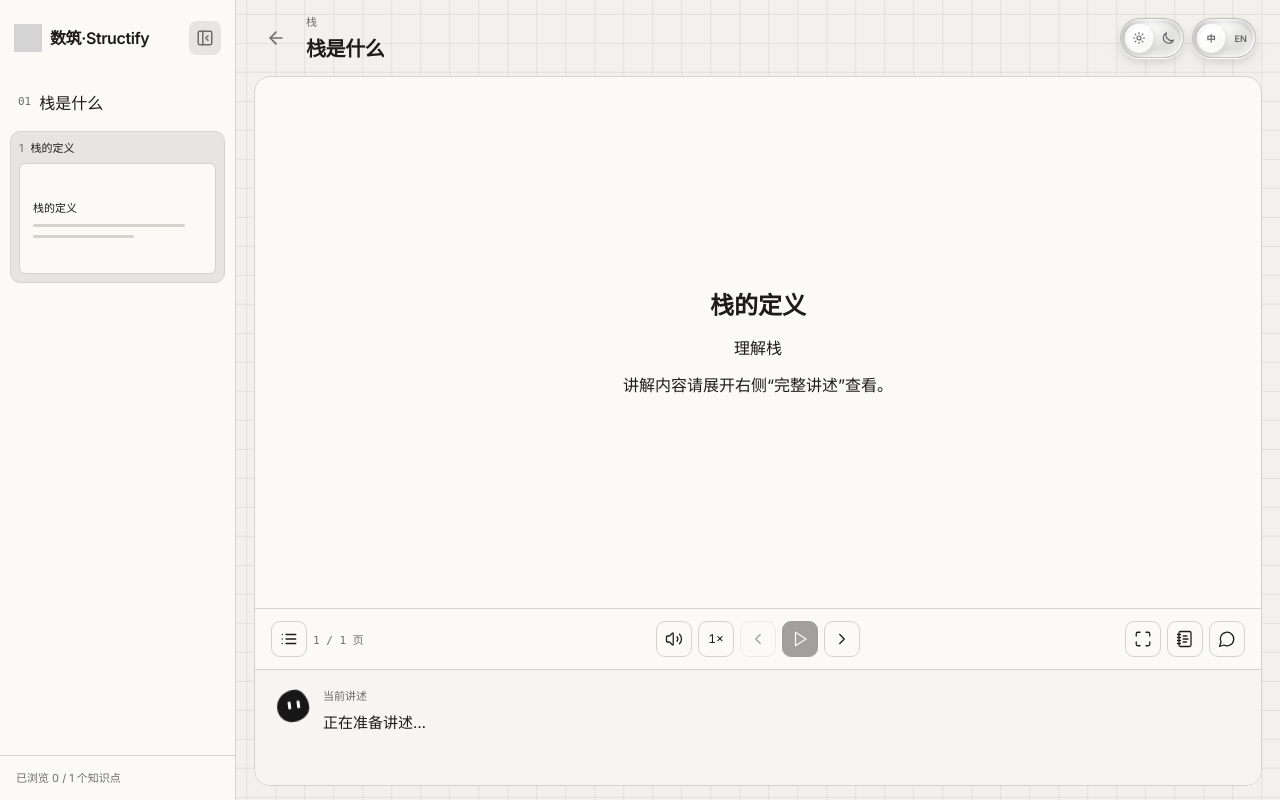
Test: keeps current content while showing a failure at the next fragment
Click the button named "下一页".
click(842, 639)  # box [824, 621, 860, 657]
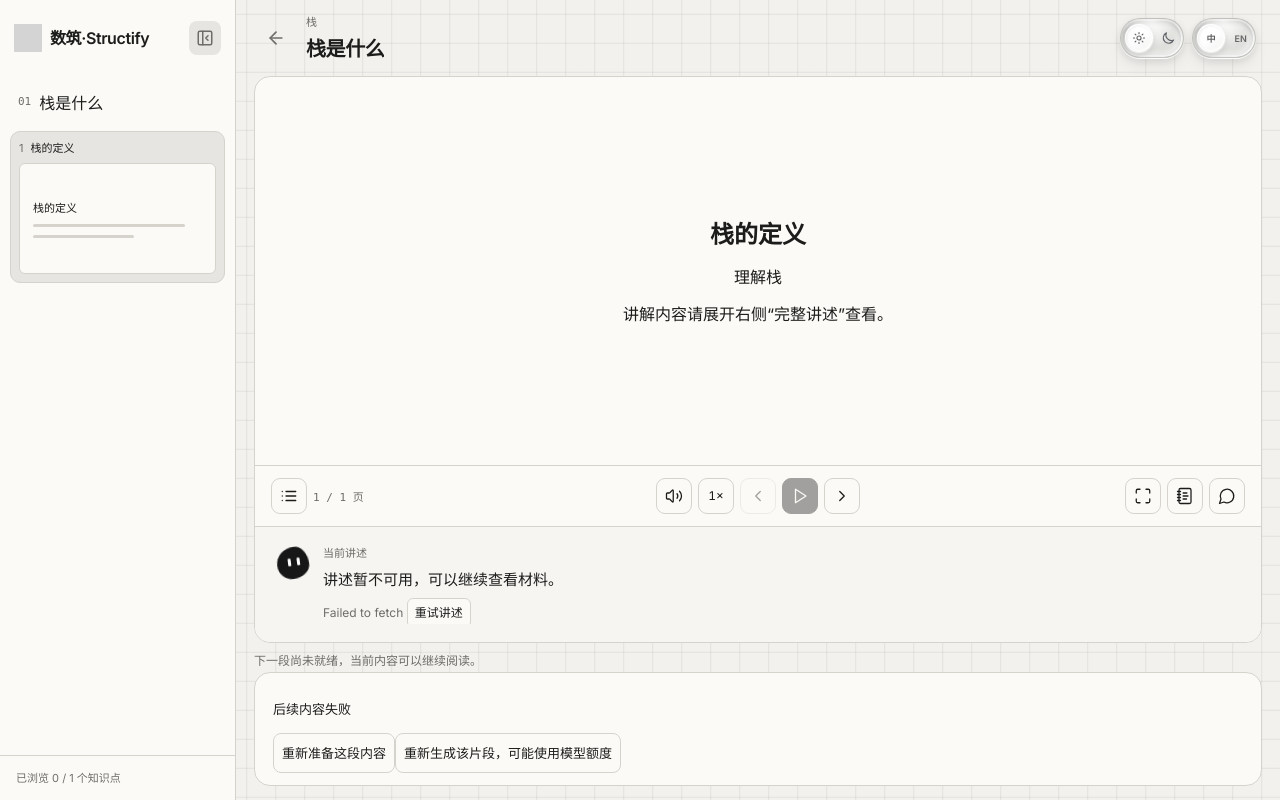
Check: the text "后续内容失败" is shown, box [273, 701, 351, 717]
